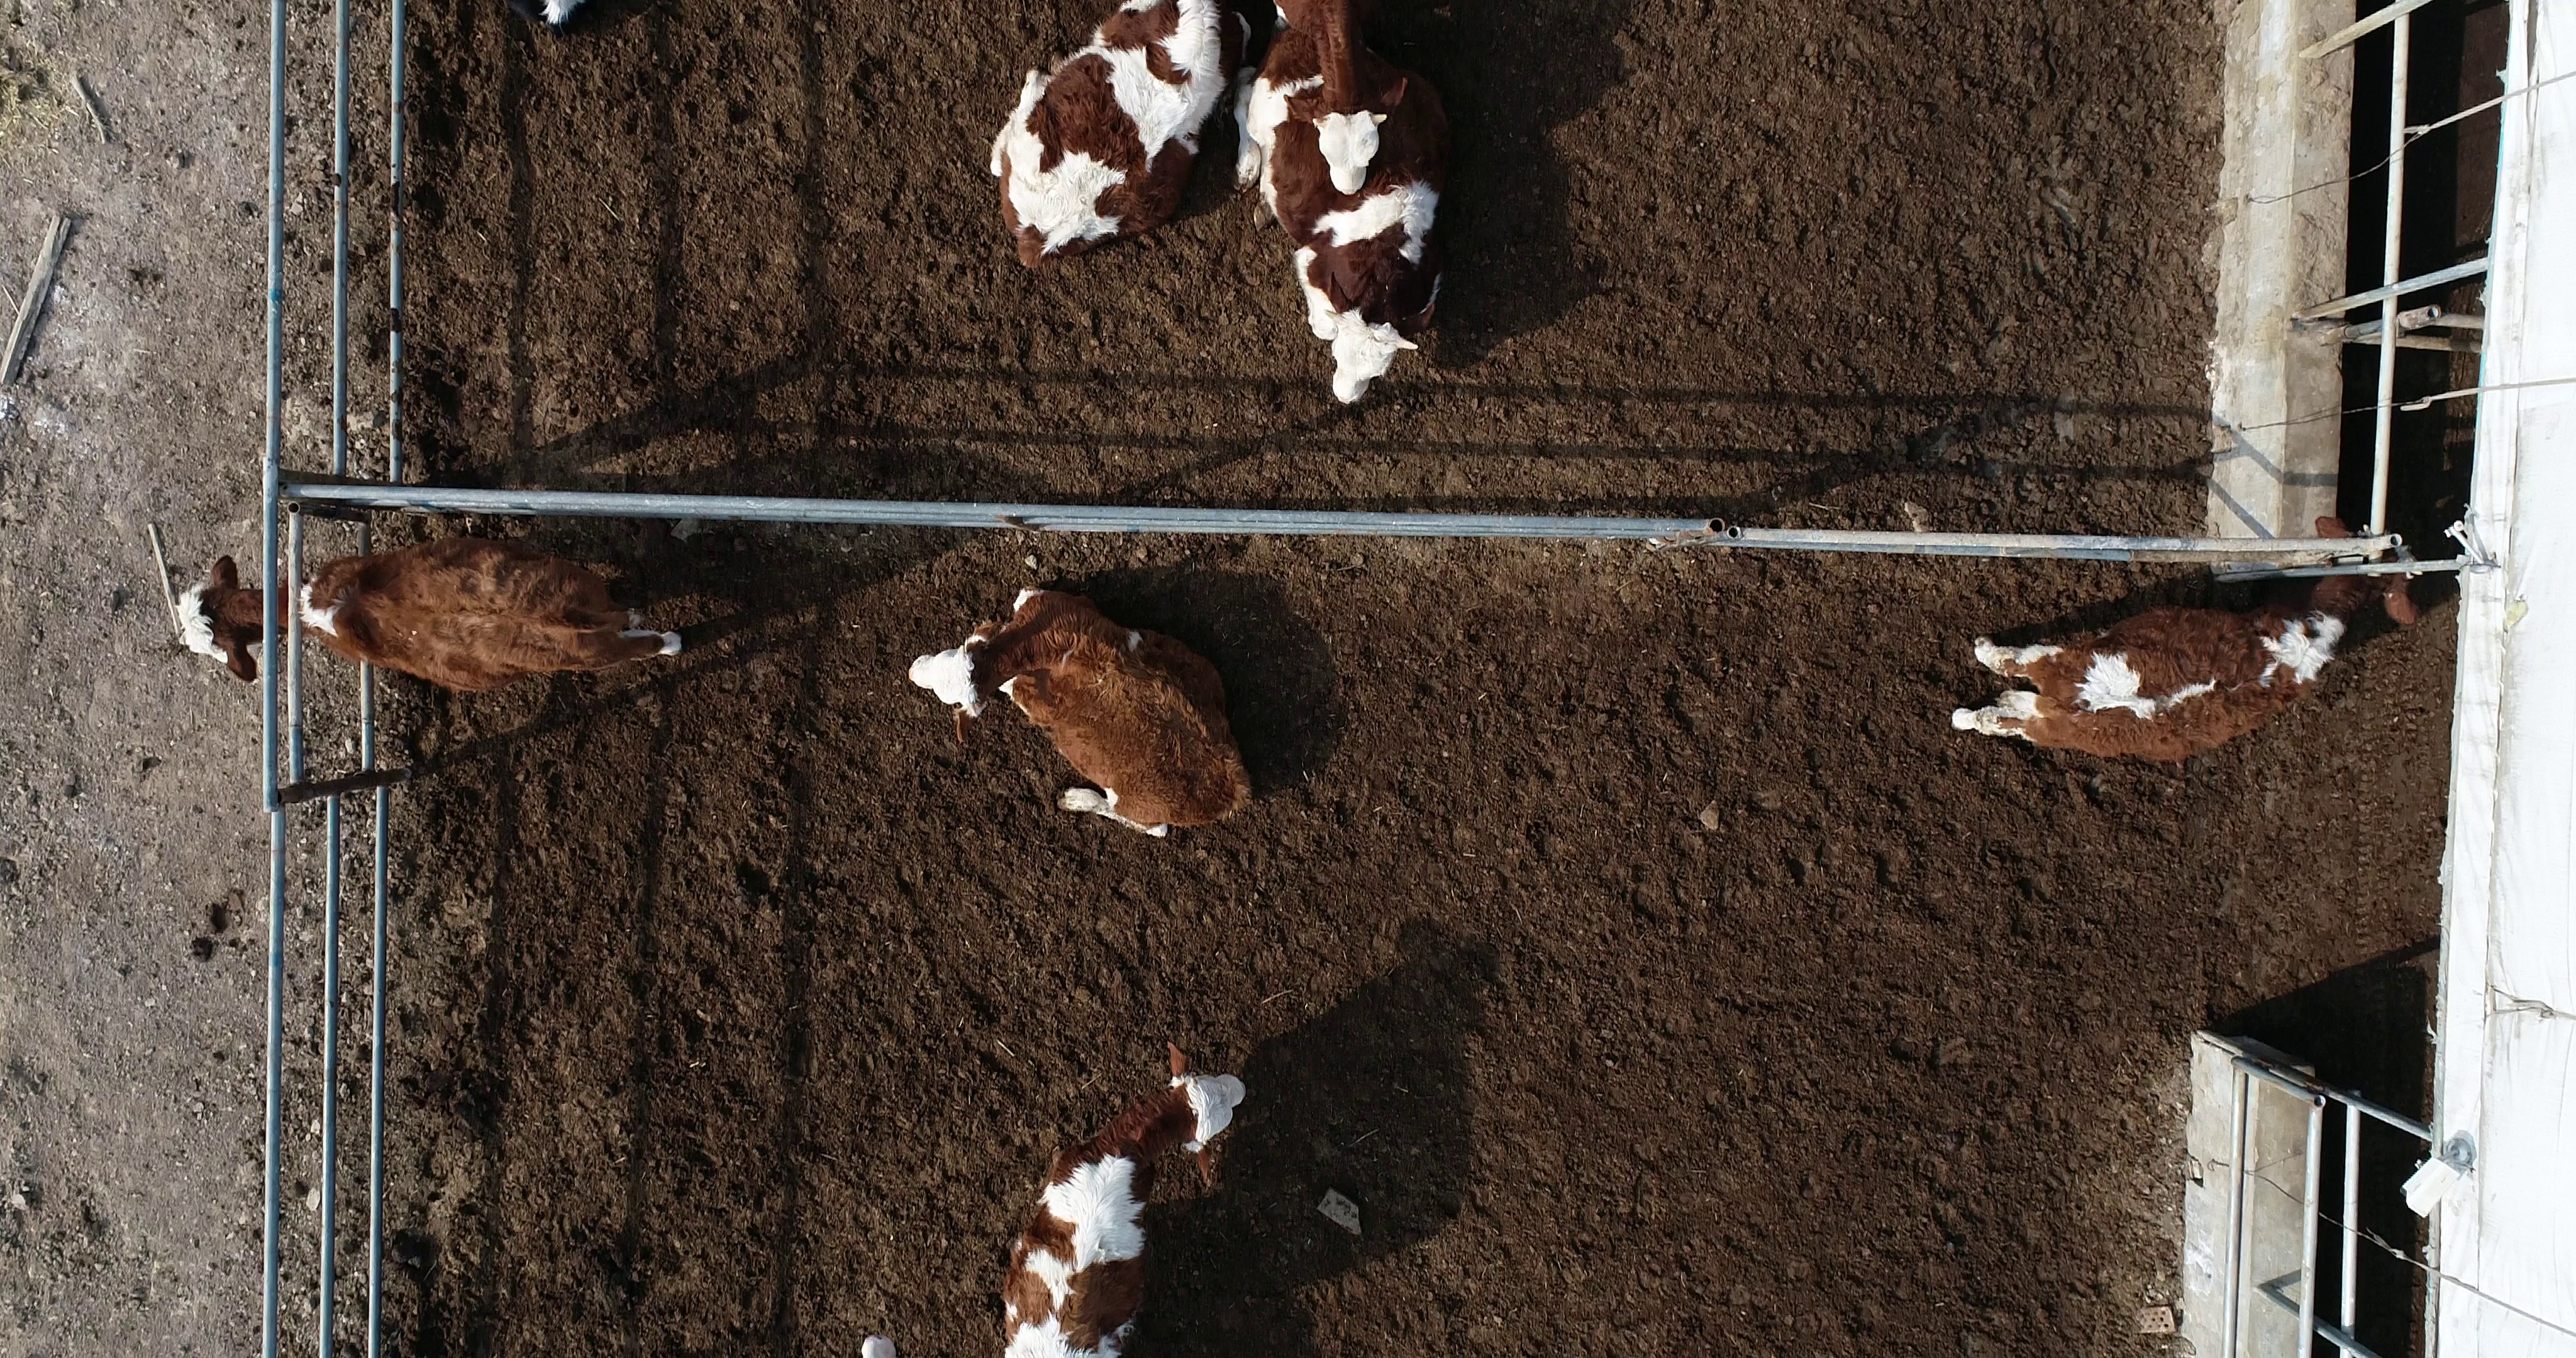cattle: (1946, 511, 2426, 767), (898, 583, 1257, 845), (167, 535, 688, 697)
